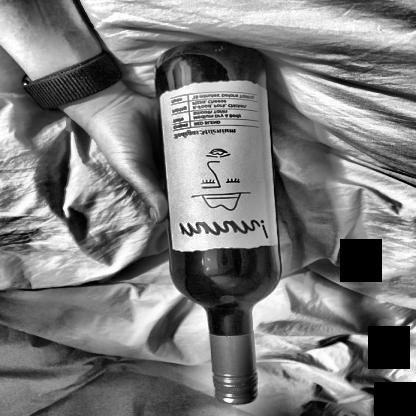umm: (163, 82, 273, 251)
